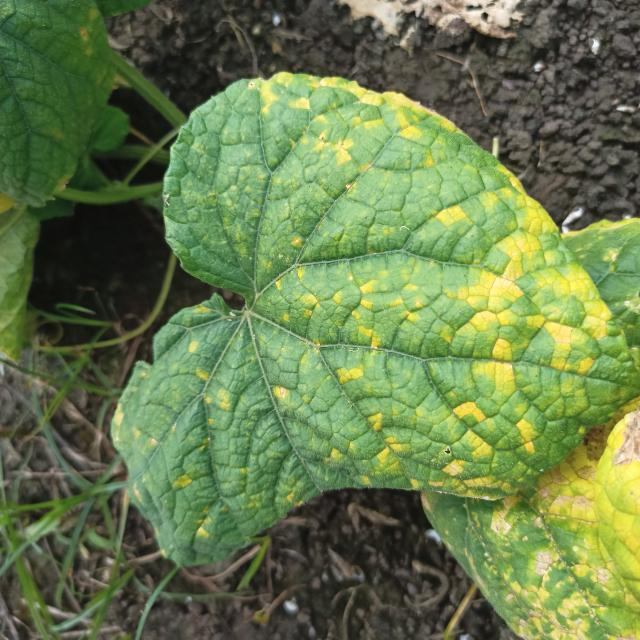disease_cucumber: (118, 80, 629, 558)
